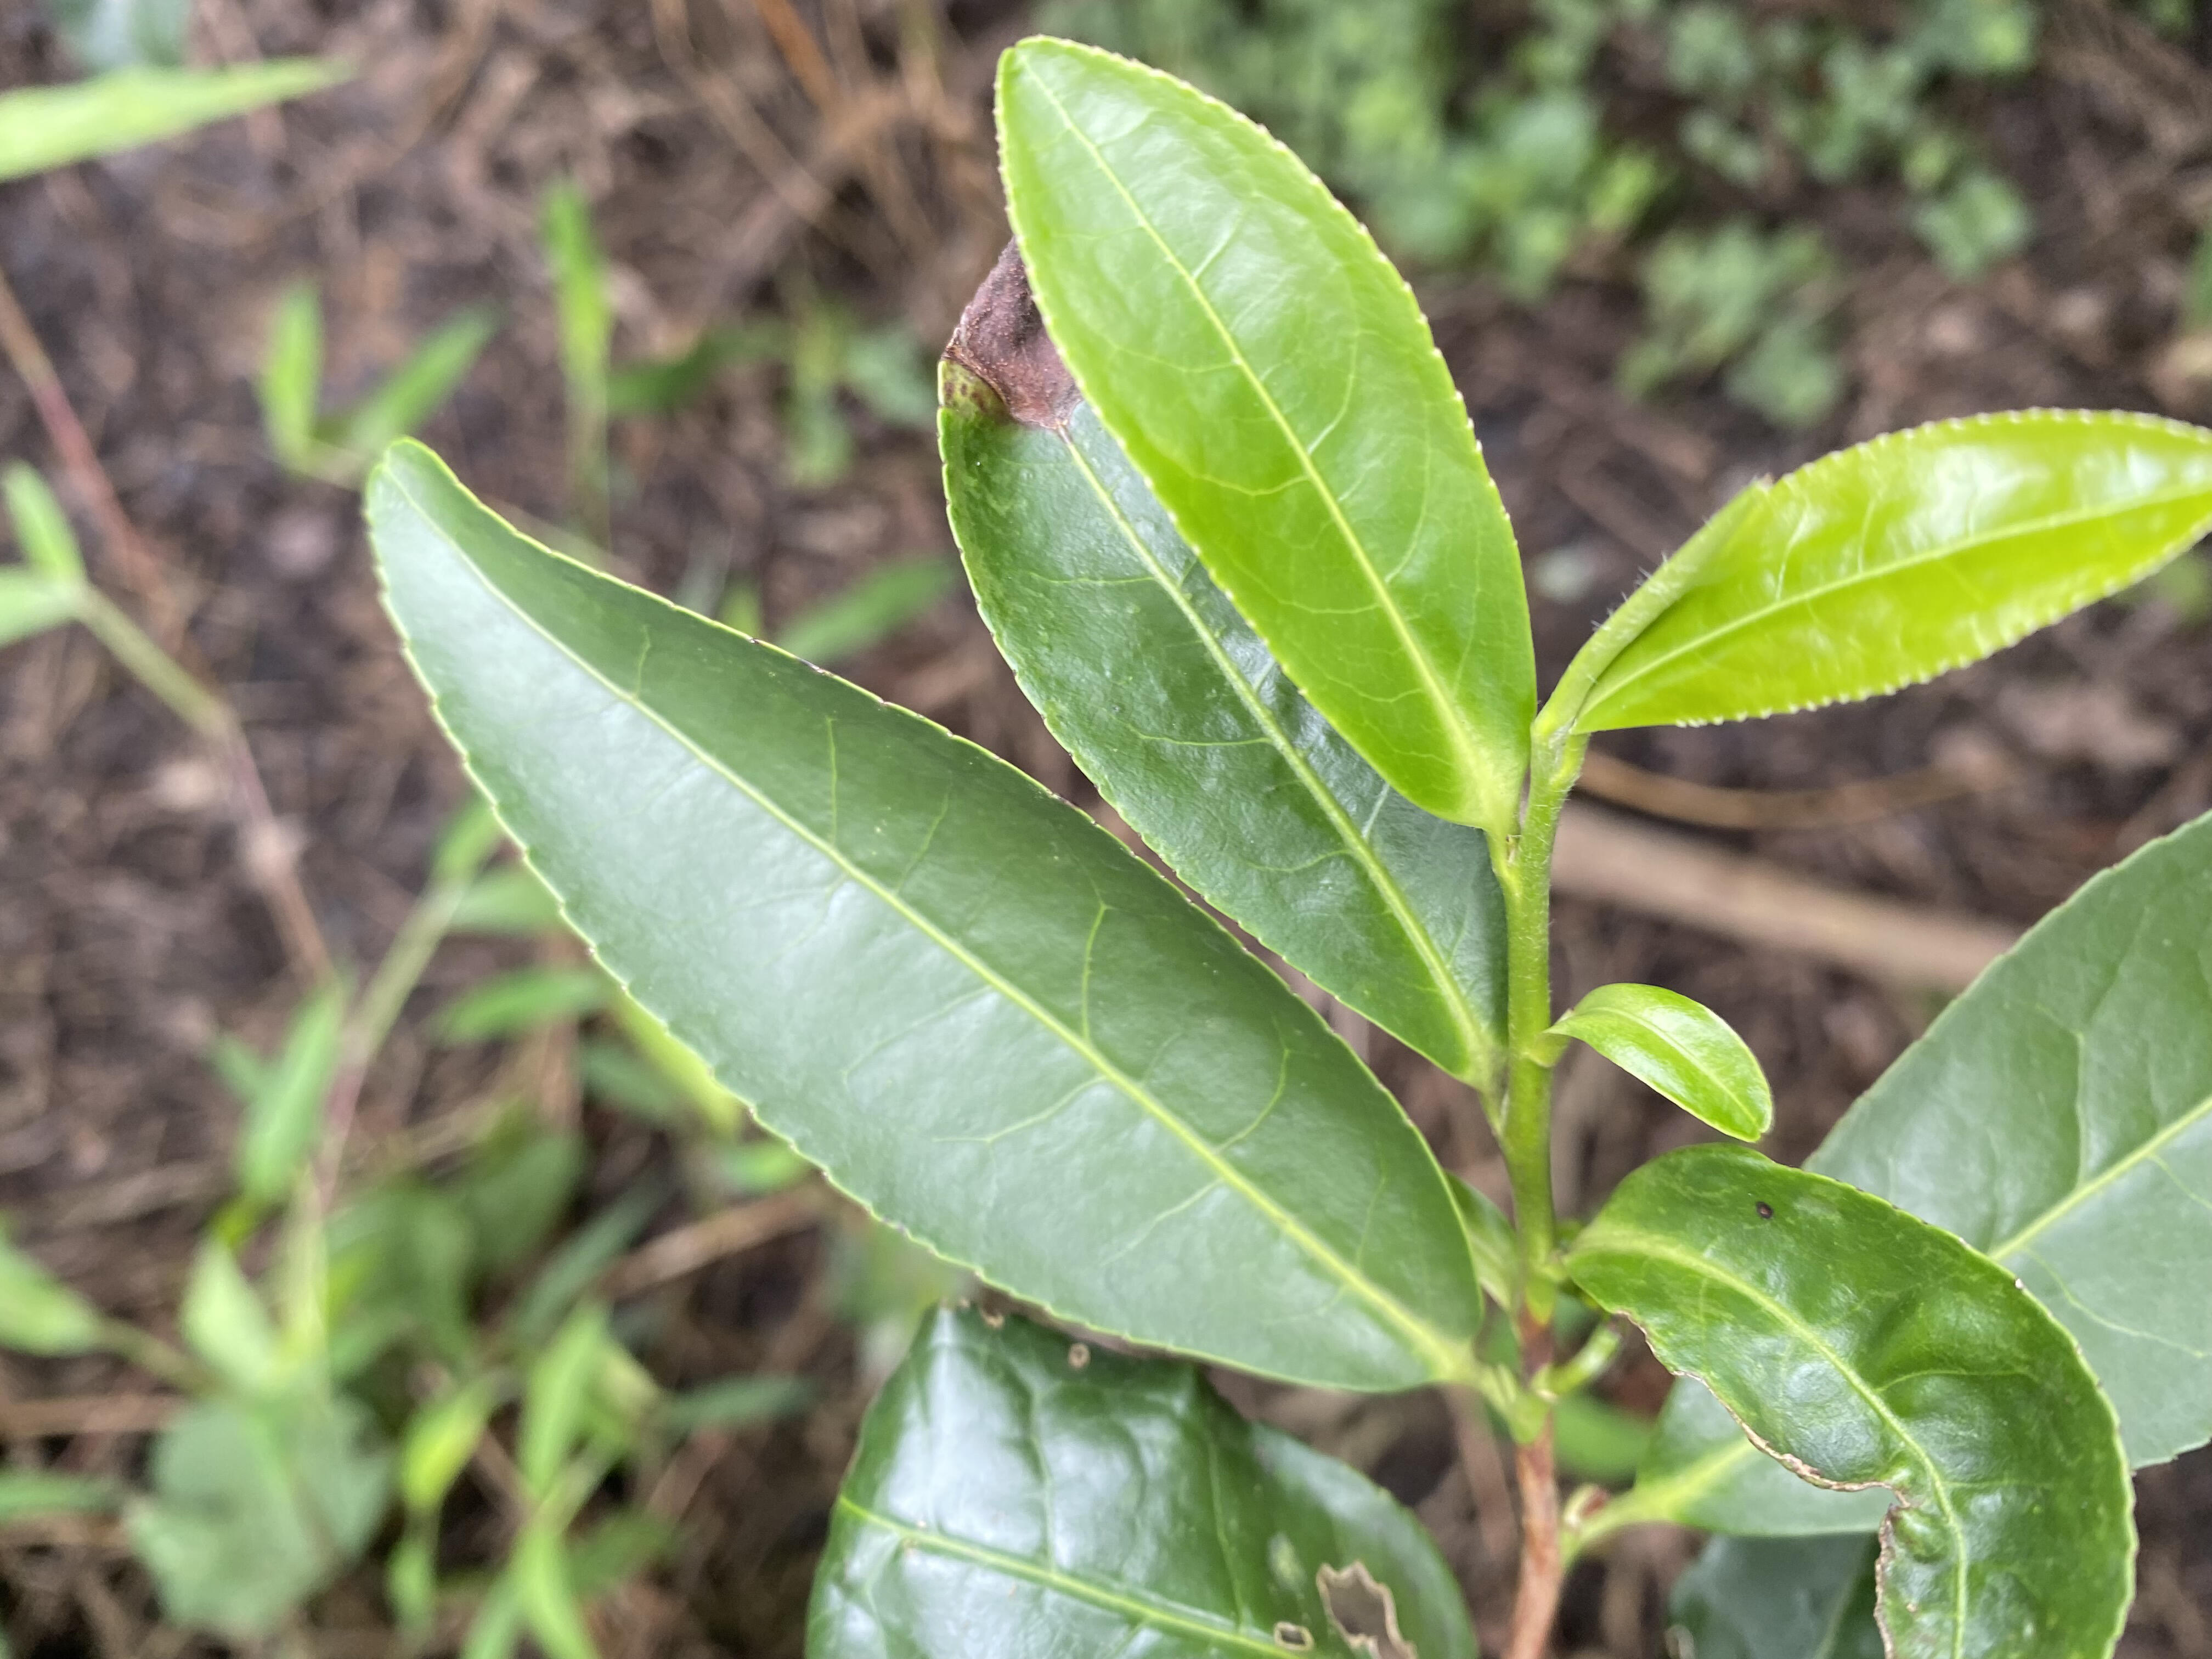chihuo_high: (1575, 1143, 2142, 1654), (794, 1298, 1480, 1656)
healthy: (362, 434, 1486, 1396), (995, 35, 1538, 828), (1576, 406, 2210, 739), (1547, 976, 1778, 1147)
tanju_high: (934, 235, 1514, 1091)
